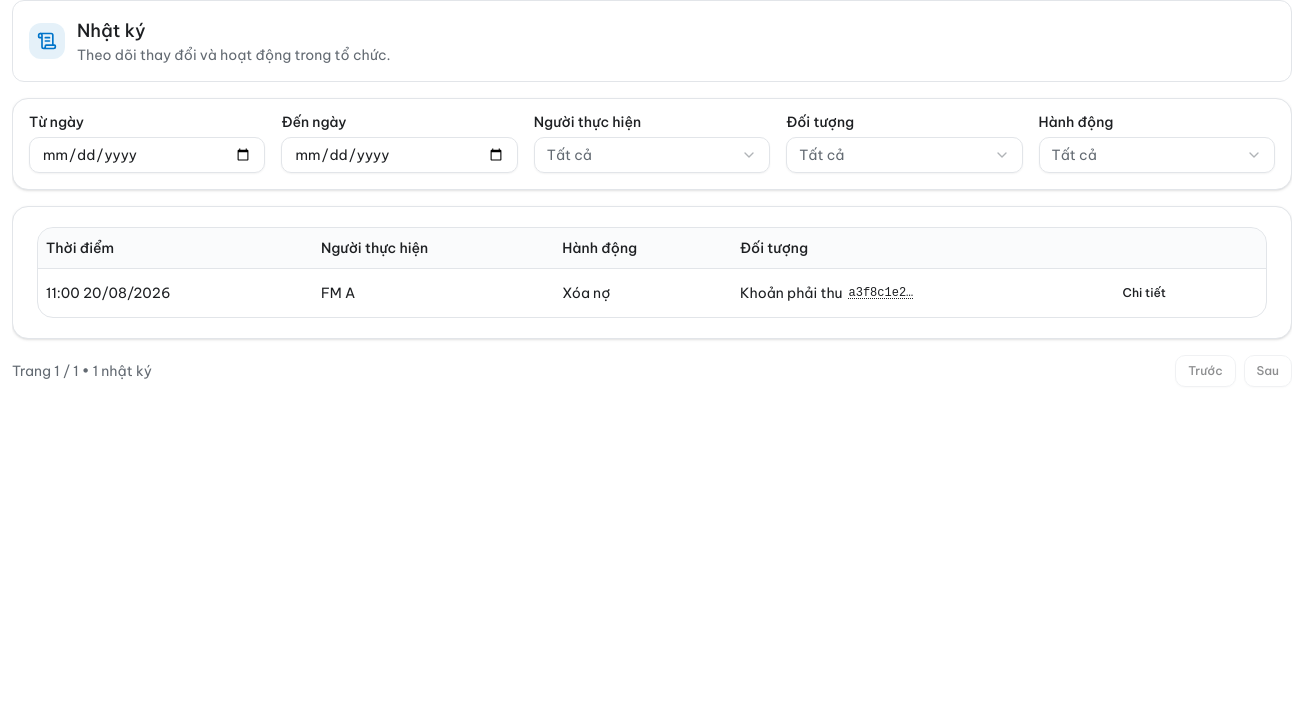
Test: AuditLogTab › truncates UUID-shaped values with a copy button in the expanded detail
Click the button "Chi tiết".
click(1144, 292)  # box [1111,276,1178,308]
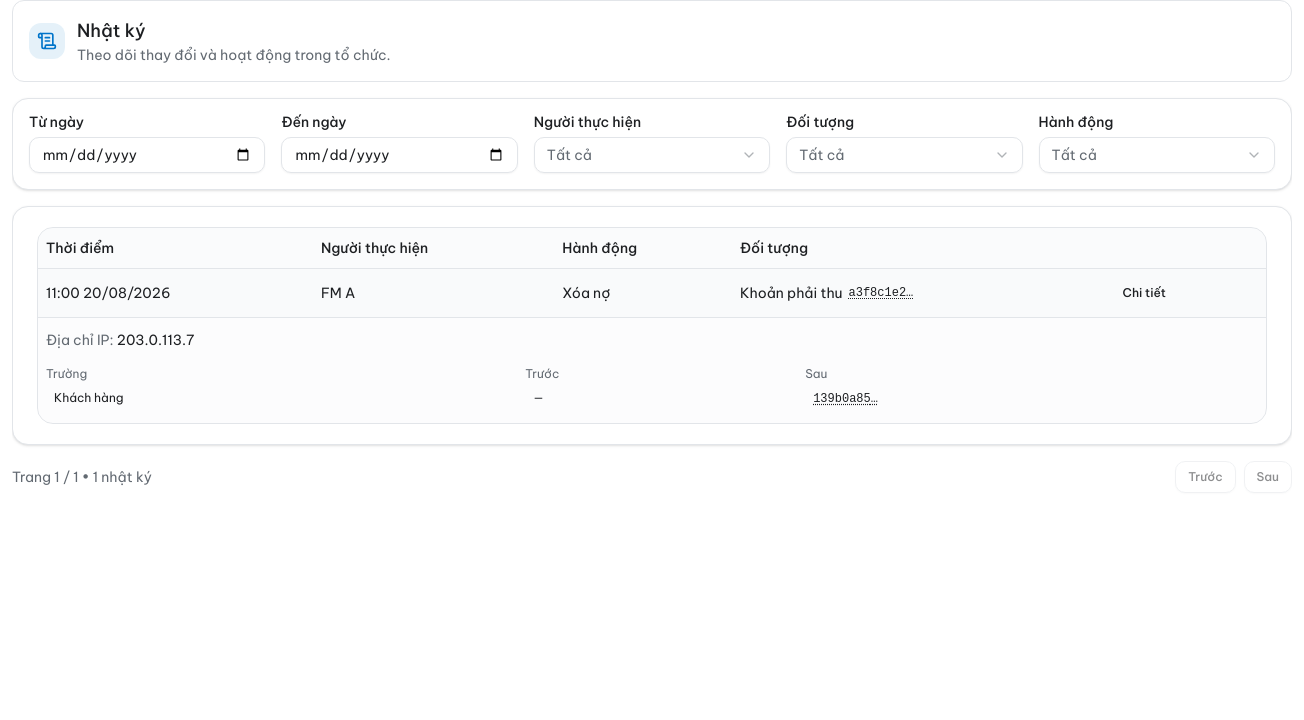
Expected: the text "Khách hàng" is shown, [46,386,525,410]
